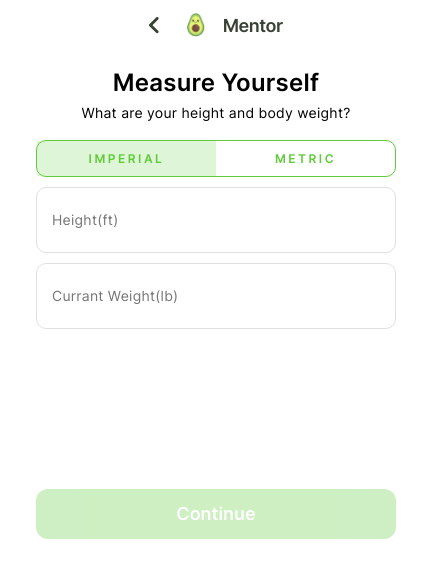
Test: Tests for Header › goes to Goal page with clicking back button being at Measurement page
Click the button with test id "back".
click(154, 25)  # box [149,10,159,40]
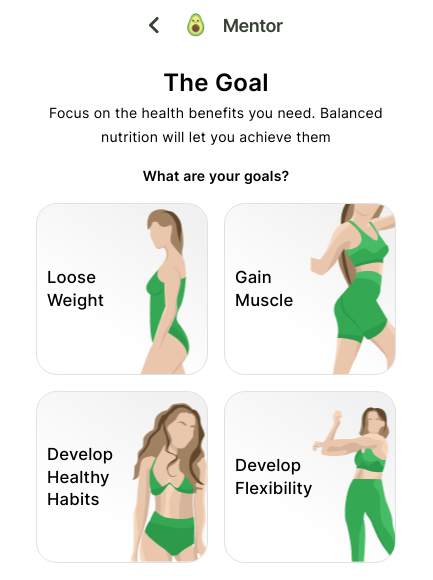
Result: the element with test id "goal" is shown
